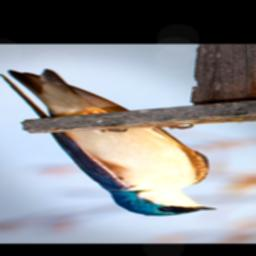Swallow: (0, 68, 218, 217)
